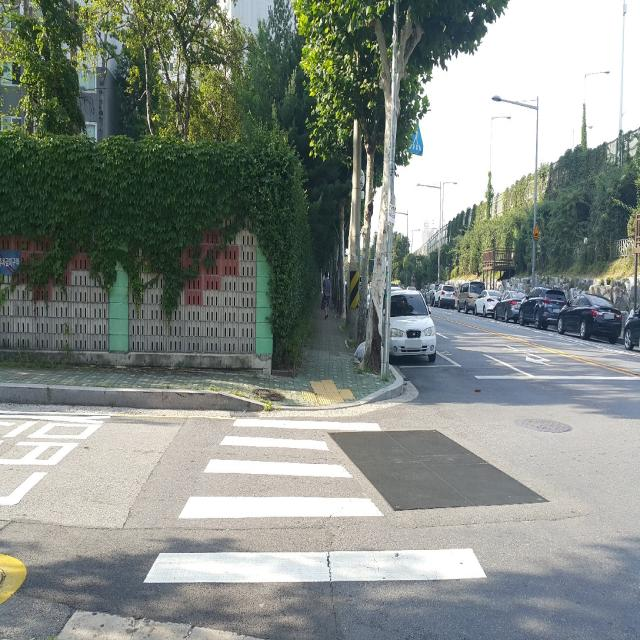횡단보도: (140, 412, 489, 590)
